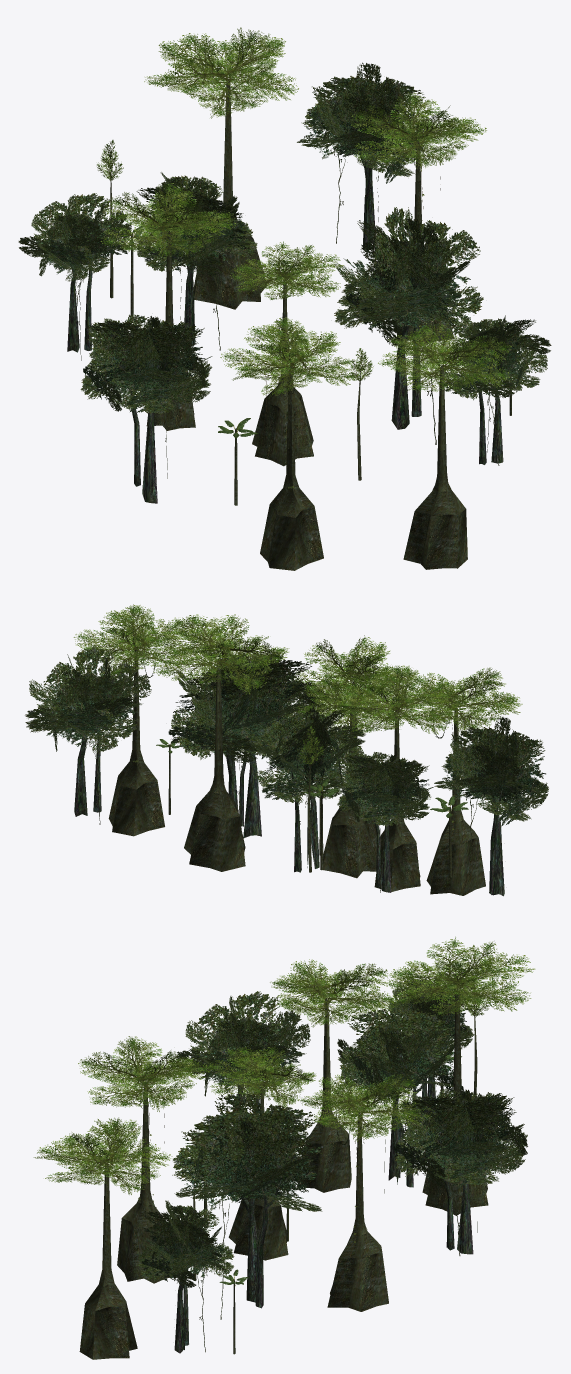
3 renders of one model, top to bottom at view 1: azimuth 30°, elevation 25°; view 2: azimuth 150°, elevation 25°; view 3: azimuth 270°, elevation 25°, orthographic. The views are drawn at different scales.
Parts seen in each view (by area): view 1: _TG01D; view 2: _TG01D; view 3: _TG01D.
Boxes of the visible parts, x1=… form: _TG01D: x1=18, y1=27, x2=551, y2=570; _TG01D: x1=25, y1=604, x2=548, y2=896; _TG01D: x1=33, y1=936, x2=535, y2=1359.
Bounding box in the file's own units: 55.86 × 46.45 × 58.24.
8 materials, 8 textured.
